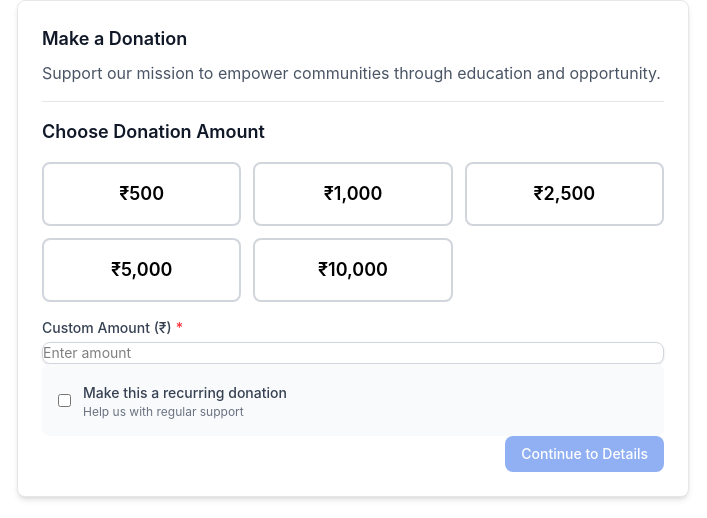
DonationForm › allows navigation between steps
Step 1. Click the button "₹1,000" → (353, 194), box [253,162,453,226]
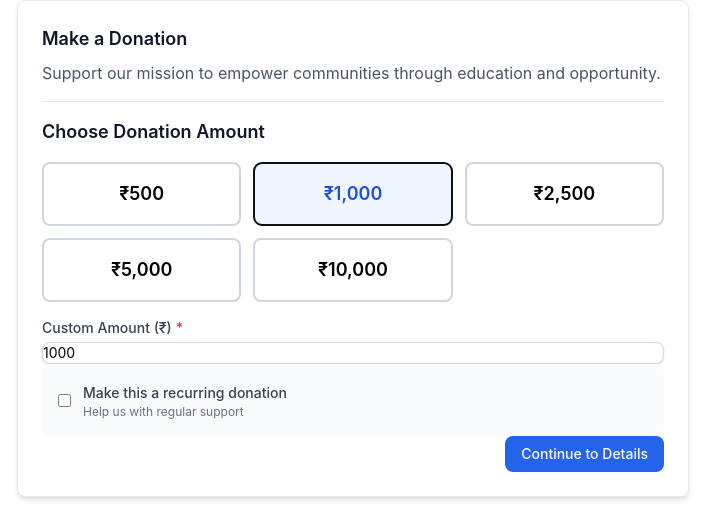
Step 2. Click the button "Continue to Details" → (585, 454), box [505,436,664,472]
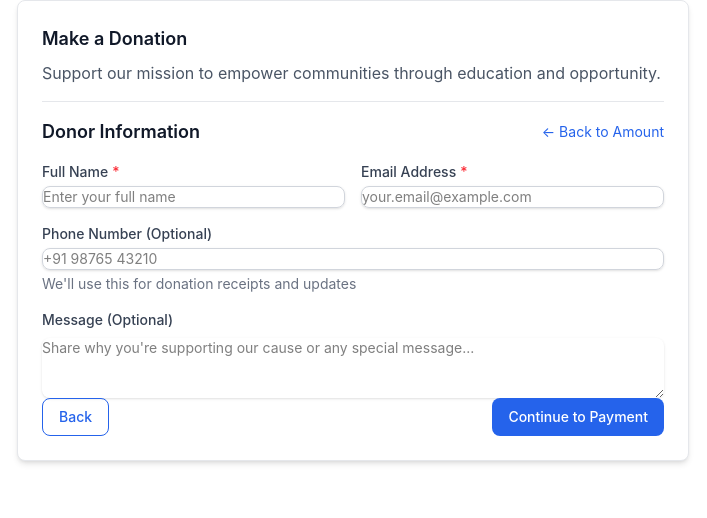
Go back to step 1
Step 3. Click the button "← Back to Amount" → (603, 132), box [542,122,664,142]
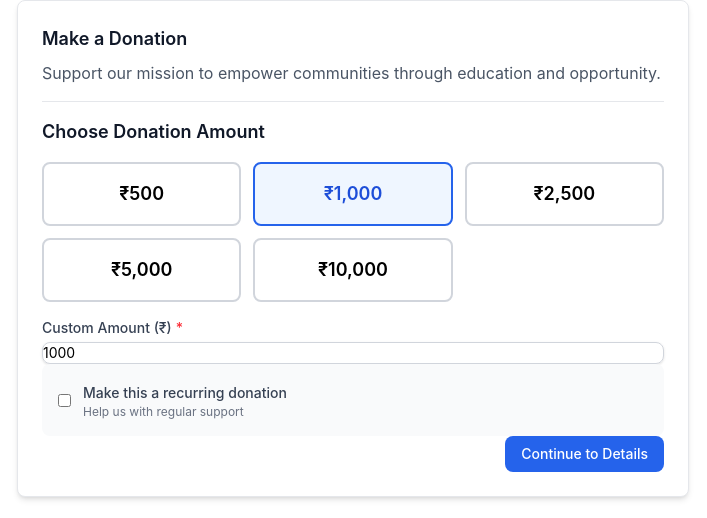
expect the heading "Choose Donation Amount" is shown: met, box [42,121,265,142]
